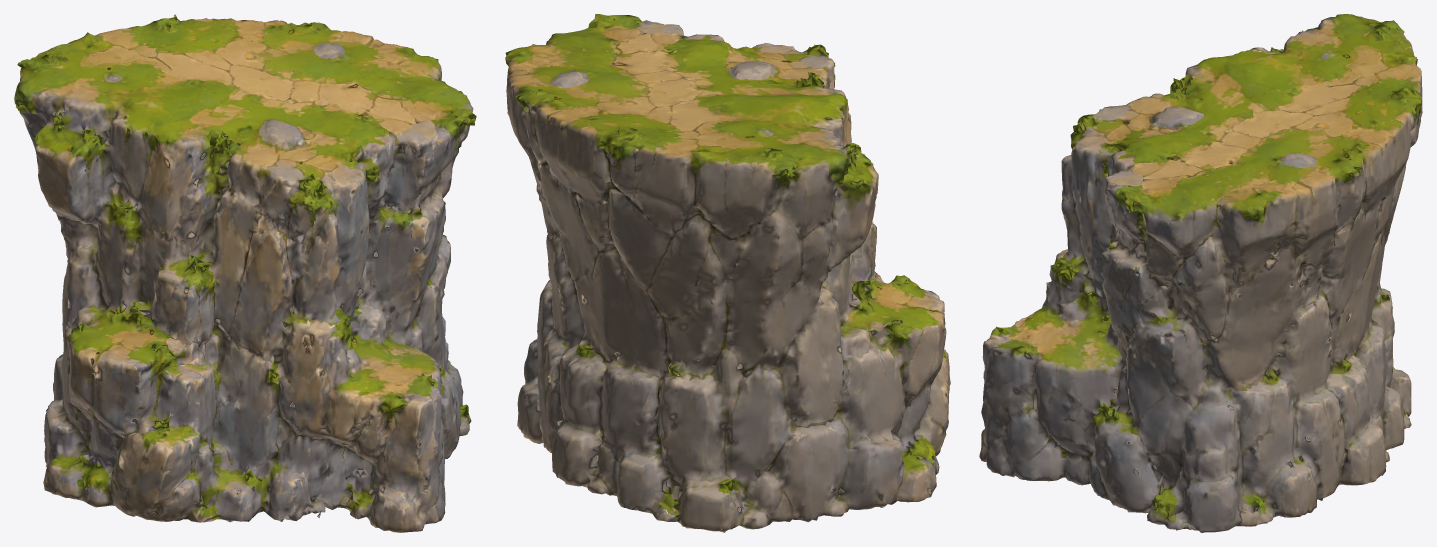
File: Acantilado_2_closed.glb
3 views of the same model, side by side, from view 1: azimuth 30°, elevation 25°; view 2: azimuth 150°, elevation 25°; view 3: azimuth 270°, elevation 25° (orthographic). The views are drawn at different scales.
Parts seen in each view (by area): view 1: tripo_node_2336c561-4e9d-456f-9ca1-d0014a1f078d; view 2: tripo_node_2336c561-4e9d-456f-9ca1-d0014a1f078d; view 3: tripo_node_2336c561-4e9d-456f-9ca1-d0014a1f078d.
Part boxes in pixels (x1,y1,x2,y2): tripo_node_2336c561-4e9d-456f-9ca1-d0014a1f078d: (14, 14, 476, 532); tripo_node_2336c561-4e9d-456f-9ca1-d0014a1f078d: (505, 14, 950, 532); tripo_node_2336c561-4e9d-456f-9ca1-d0014a1f078d: (979, 14, 1422, 532).
Size of what is drawn, in the model's own units: 0.977 by 0.8587 by 0.967.
Materials: 1 (1 with a texture image).
